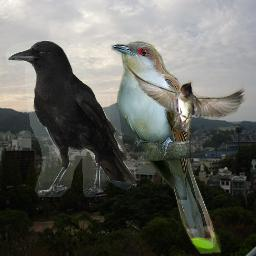Crow: (6, 40, 137, 197)
Cuckoo: (111, 41, 221, 254)
Swallow: (124, 63, 247, 137)
